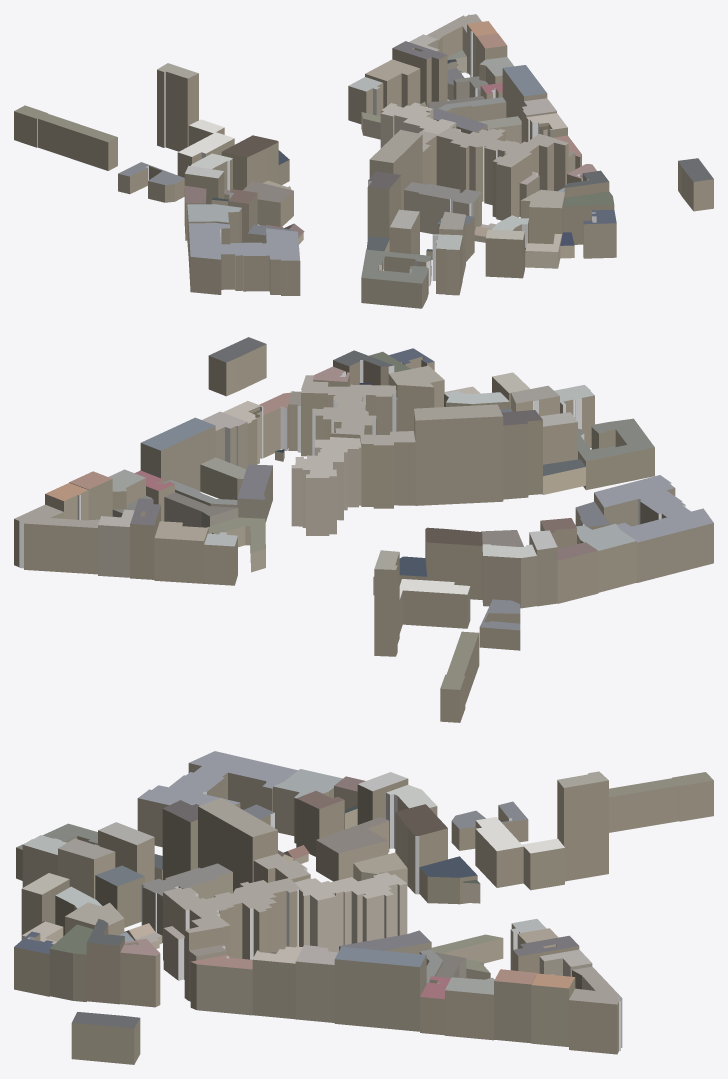
3 renders of one model, top to bottom at view 1: azimuth 30°, elevation 25°; view 2: azimuth 150°, elevation 25°; view 3: azimuth 270°, elevation 25°, orthographic. The views are drawn at different scales.
Visible parts, largest first — view 1: tuile; view 2: tuile; view 3: tuile.
Boxes of the visible parts, x1,y1,x2,y2 form: tuile: (14, 14, 713, 308); tuile: (14, 337, 713, 722); tuile: (14, 751, 713, 1064).
Size of the model in its own units: 269 by 46.69 by 279.
